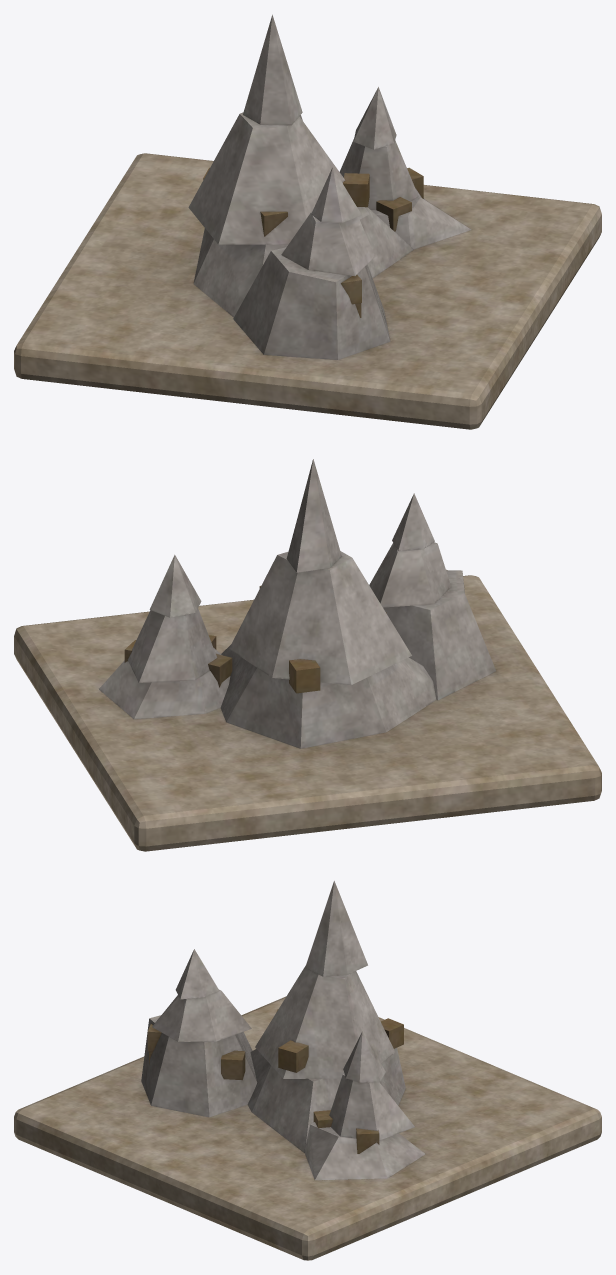
Rendered from durgar_hills.glb.
The picture shows the model from 3 angles, top to bottom: view 1: azimuth 30°, elevation 25°; view 2: azimuth 150°, elevation 25°; view 3: azimuth 270°, elevation 25°; orthographic projection. The views are drawn at different scales.
Parts seen in each view (by area): view 1: dilek; view 2: dilek; view 3: dilek.
Boxes of the visible parts, x1,y1,x2,y2 form: dilek: [14, 14, 601, 429]; dilek: [14, 459, 601, 851]; dilek: [14, 881, 601, 1260].
Size of the model in its own units: 2.42 by 1.14 by 2.42.
Materials: 1 (1 with a texture image).
